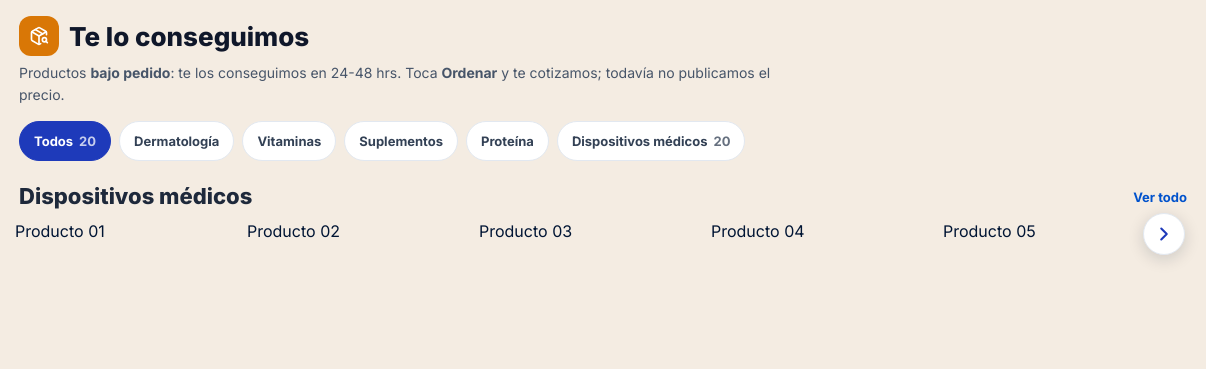
Test: rubro Dispositivos y tope de banda en Todos
What coordinates should you click on to do the following:
click the tab "Dispositivos médicos20"
I would click on:
 (651, 141)
Its box is [557, 121, 745, 161].
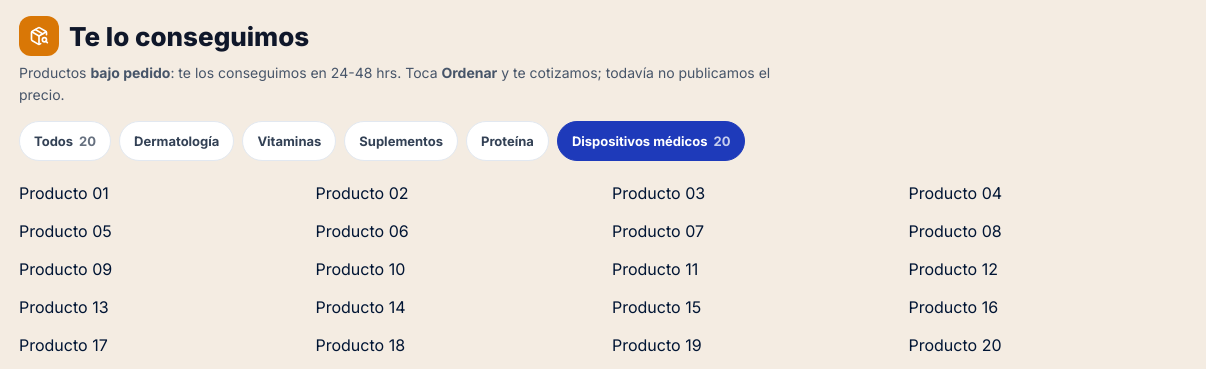
Result: the text "Producto 01" is shown 20 times
